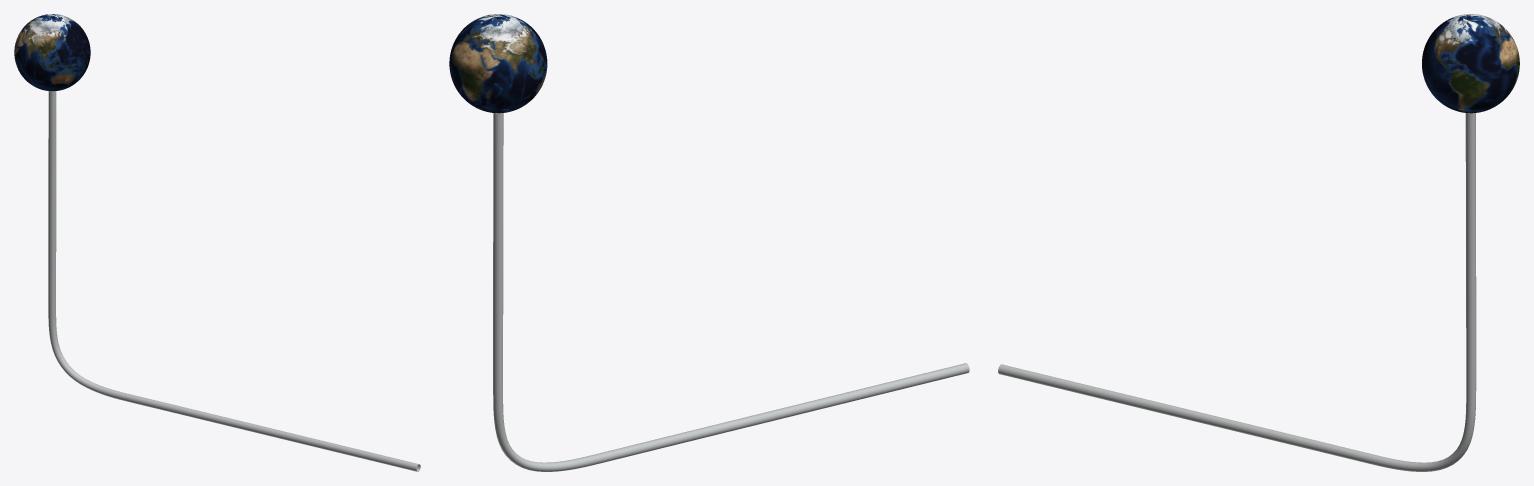
Rendered from orrery_planeta5.glb.
The picture shows the model from 3 angles, left to right: view 1: azimuth 90°, elevation 25°; view 2: azimuth 150°, elevation 25°; view 3: azimuth 270°, elevation 25°; orthographic projection. The views are drawn at different scales.
Parts seen in each view (by area): view 1: polySurface16_modelUniverseMaterial_0; view 2: polySurface16_modelUniverseMaterial_0; view 3: polySurface16_modelUniverseMaterial_0.
Part boxes in pixels (box(x1,y1,x2,y2)): polySurface16_modelUniverseMaterial_0: box(14, 14, 420, 471); polySurface16_modelUniverseMaterial_0: box(449, 14, 969, 471); polySurface16_modelUniverseMaterial_0: box(998, 14, 1519, 471).
Size of the model in its own units: 0.0944 by 0.1513 by 0.1525.
1 material, 1 textured.
